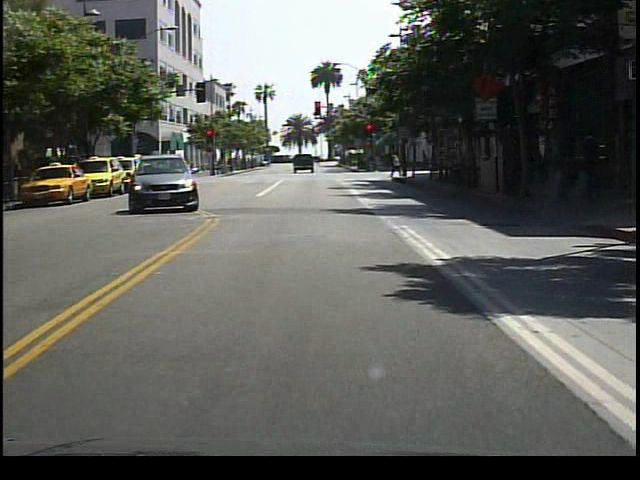person: (390, 150, 405, 178)
